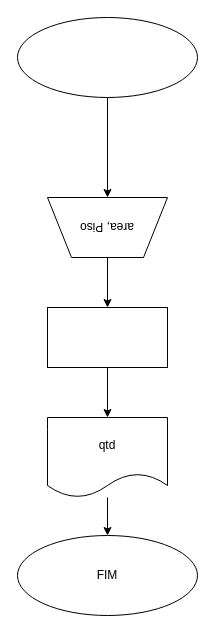
Some shapes in this 215 by 633 pixel diagram are drawn without their labels. The shapes that lost their labels are listed below. From the top down, each one's centre as x and y in pixels, then its label:
At [107,57]: "INÍCIO".
At [107,337]: "qtd = ((area/piso)*1.15)".
